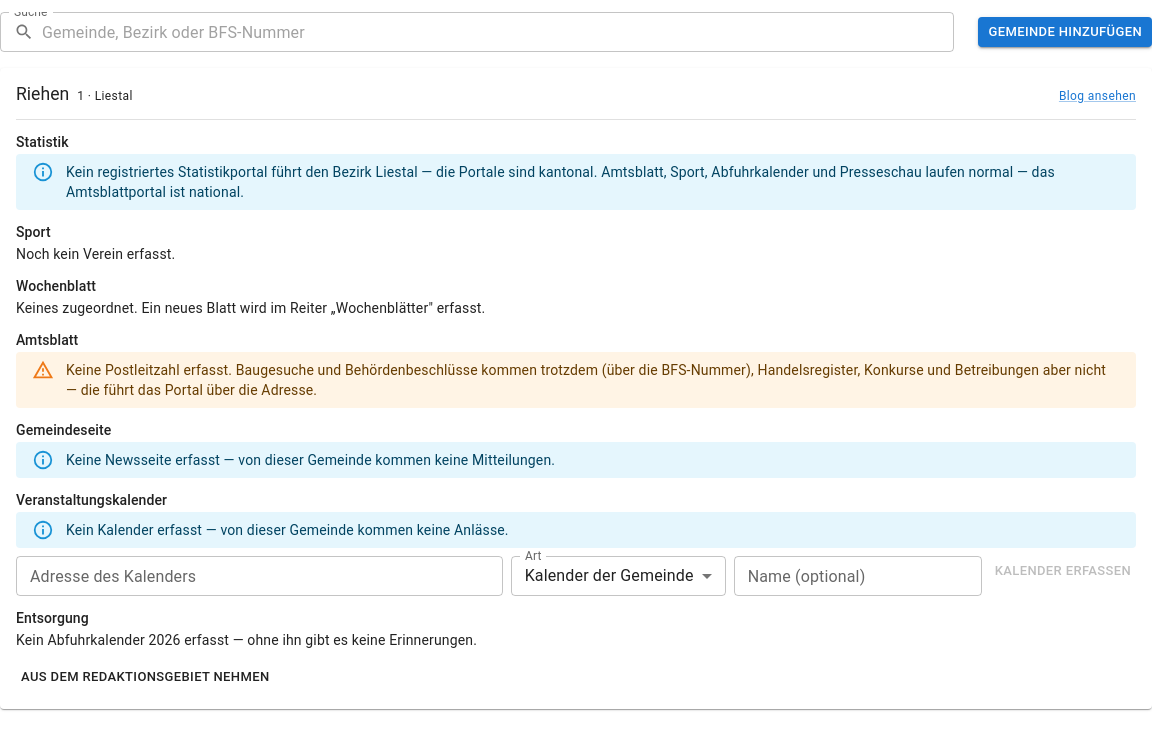
GemeindenAuswahl › sagt in der Karte, warum ein Kalender abgewiesen wurde
Type "https://www.riehenevents.ch/" into the field labelled "Adresse des Kalenders" at (259,576), box [16,556,503,596]
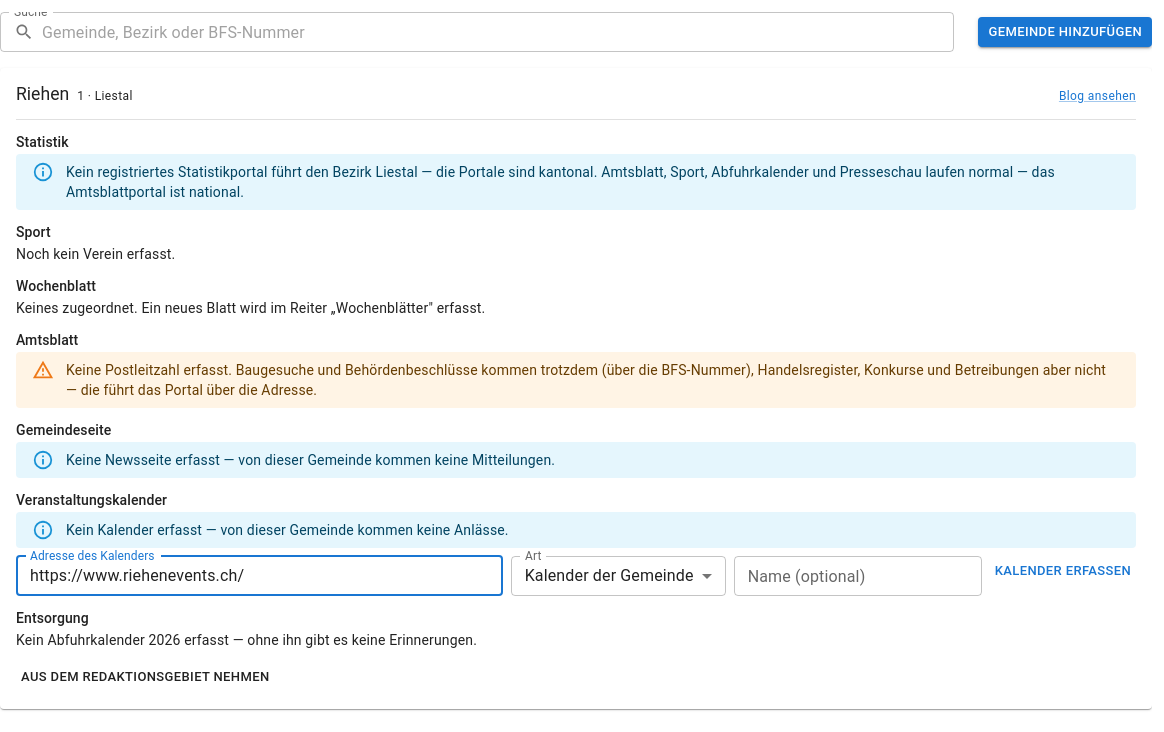
Click the button "Kalender erfassen" at (1063,571), box [990,556,1136,587]
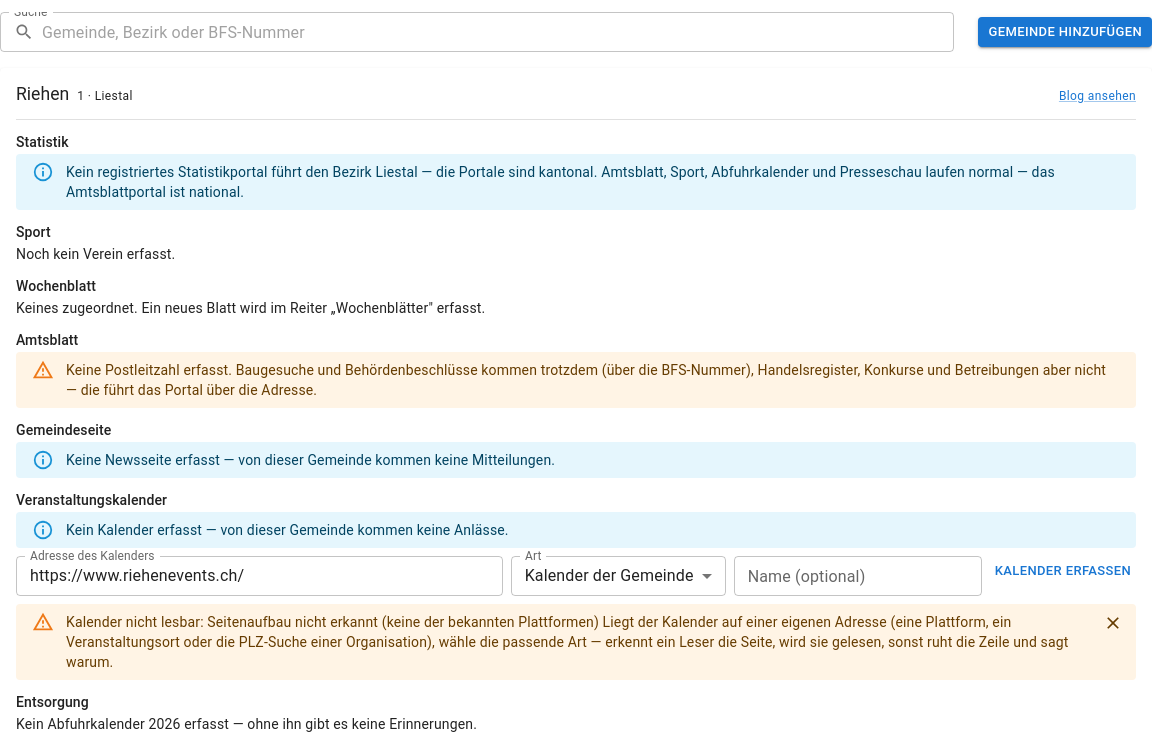
expect the text "Seitenaufbau nicht erkannt" is shown: met, box [66,614,599,630]
expect the text "eigenen Adresse" is shown: met, box [66,614,1068,670]
